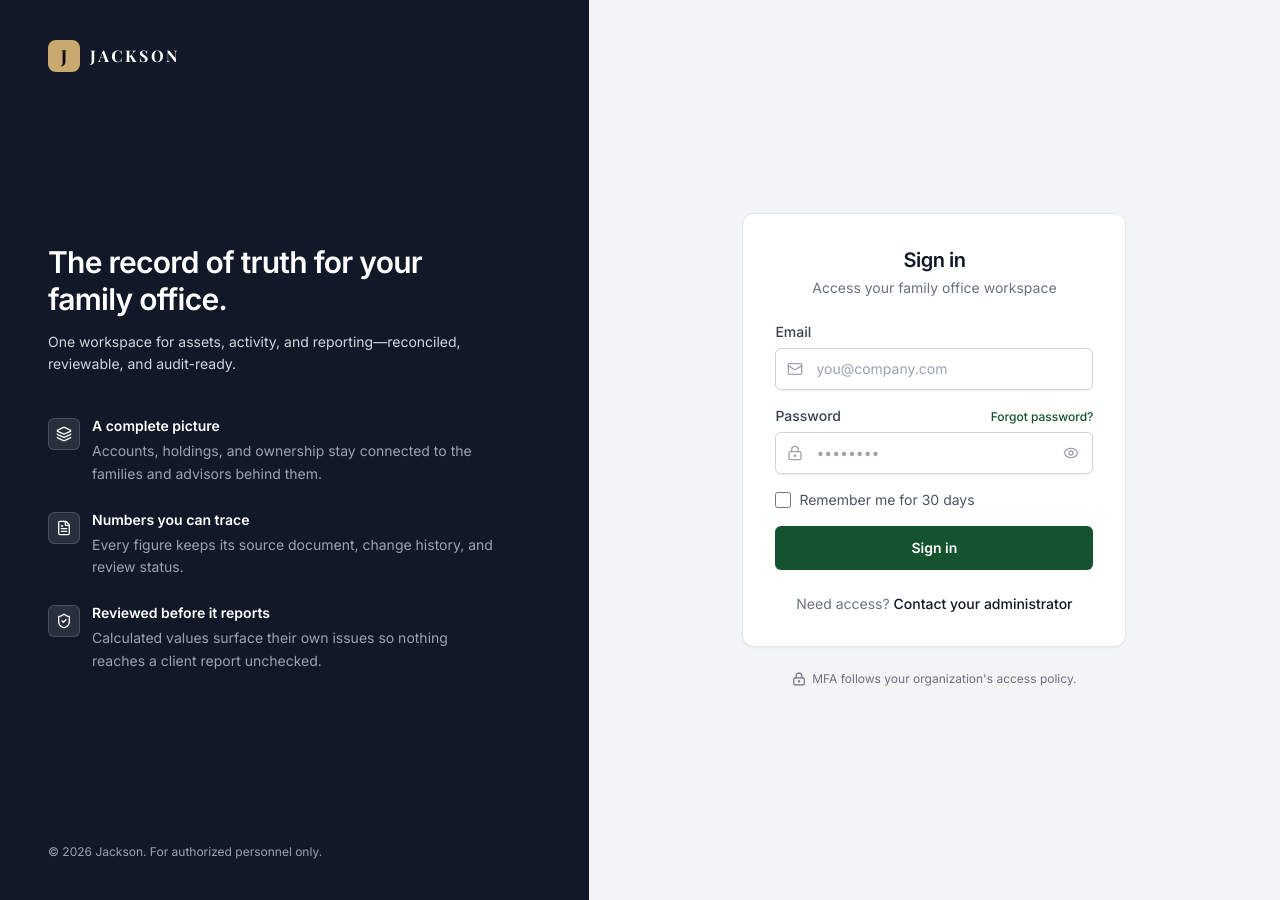
LoginPage current flow › authenticates a direct session and always opens Dashboard
Type "advisor@example.com" into the field labelled "Email" at (934, 369), box x1=775 y1=348 x2=1093 y2=390
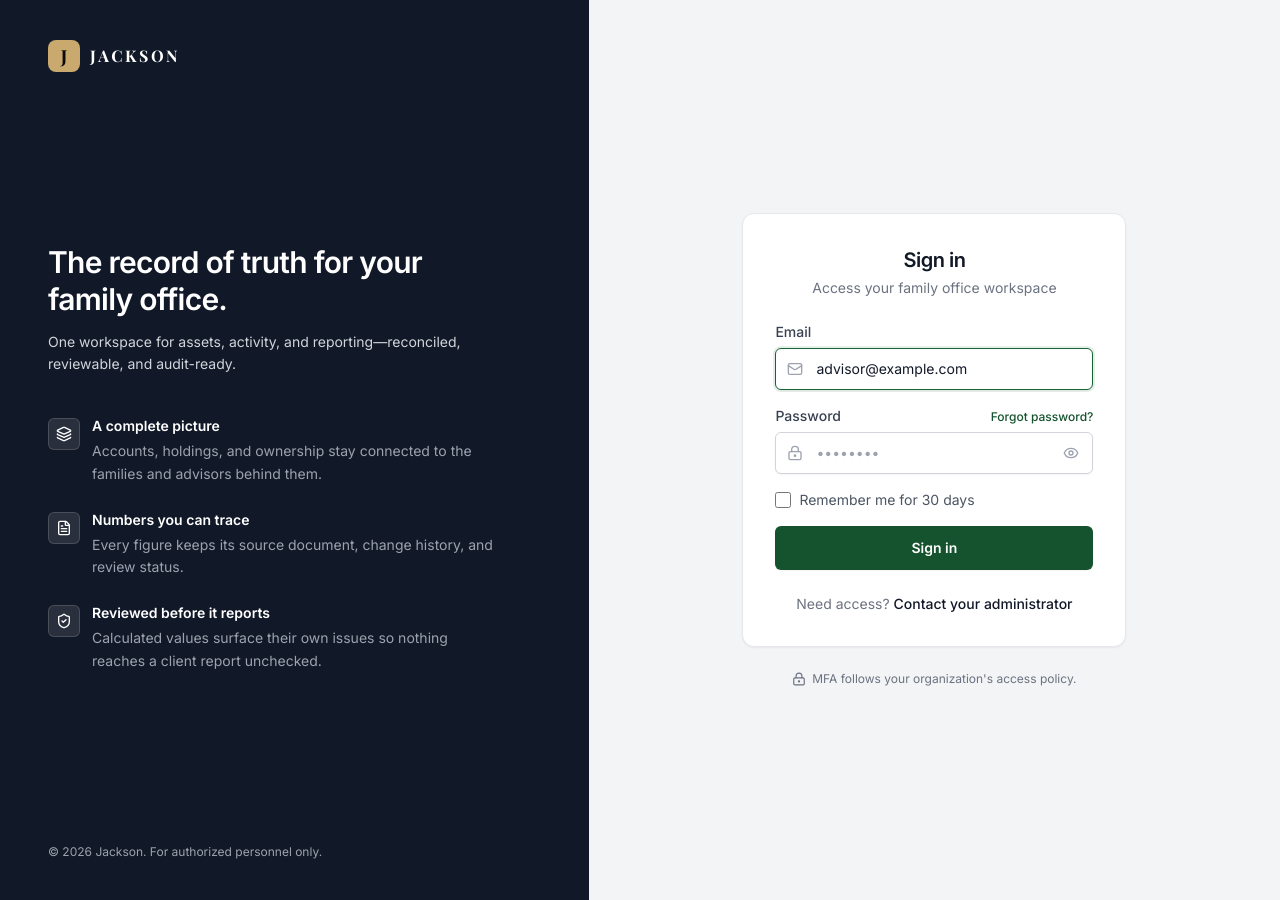
Type "Password123!" into the password field labelled "Password" at (934, 453), box x1=775 y1=432 x2=1093 y2=474
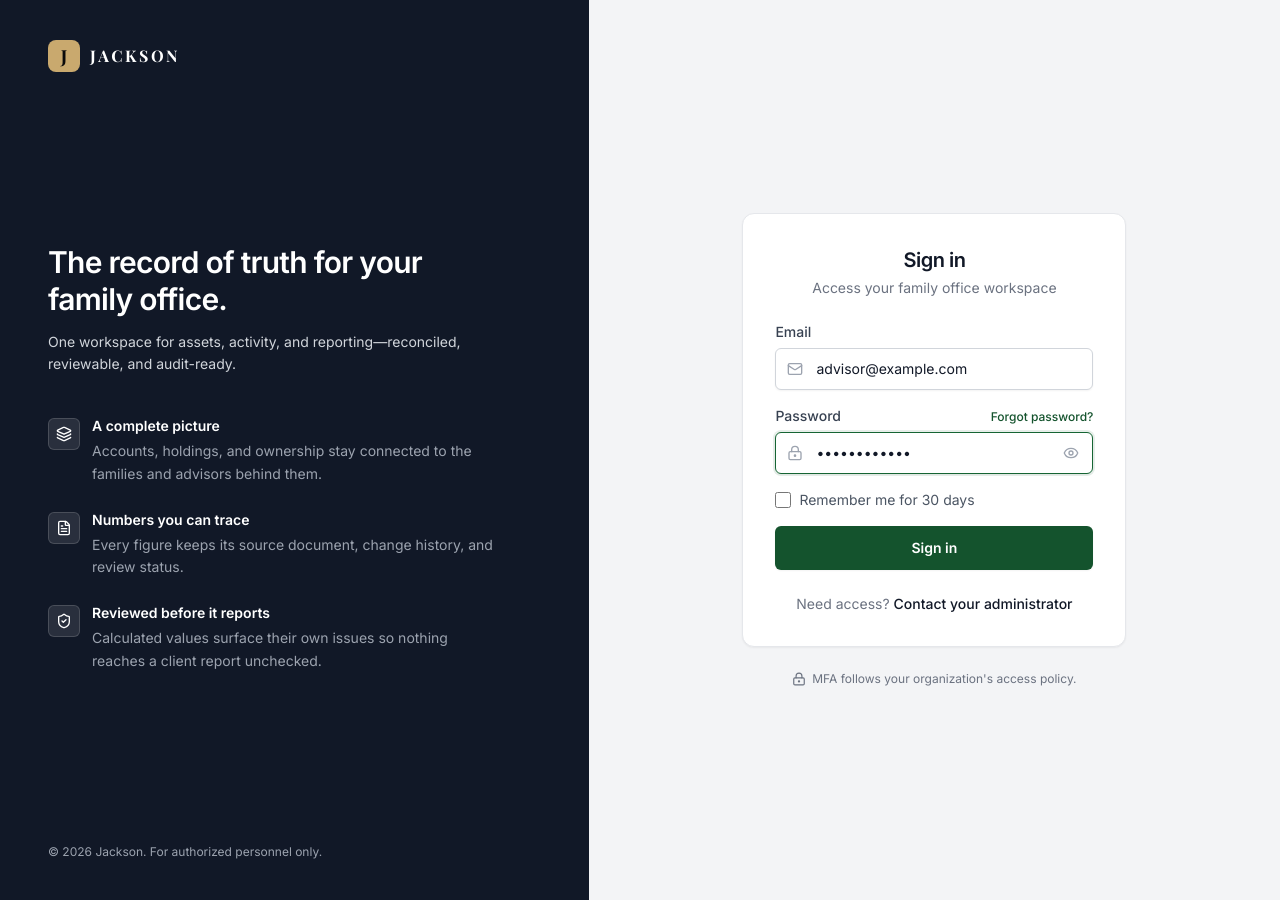
Click the button "Sign in" at (934, 548), box x1=775 y1=526 x2=1093 y2=570
(page scrolled)
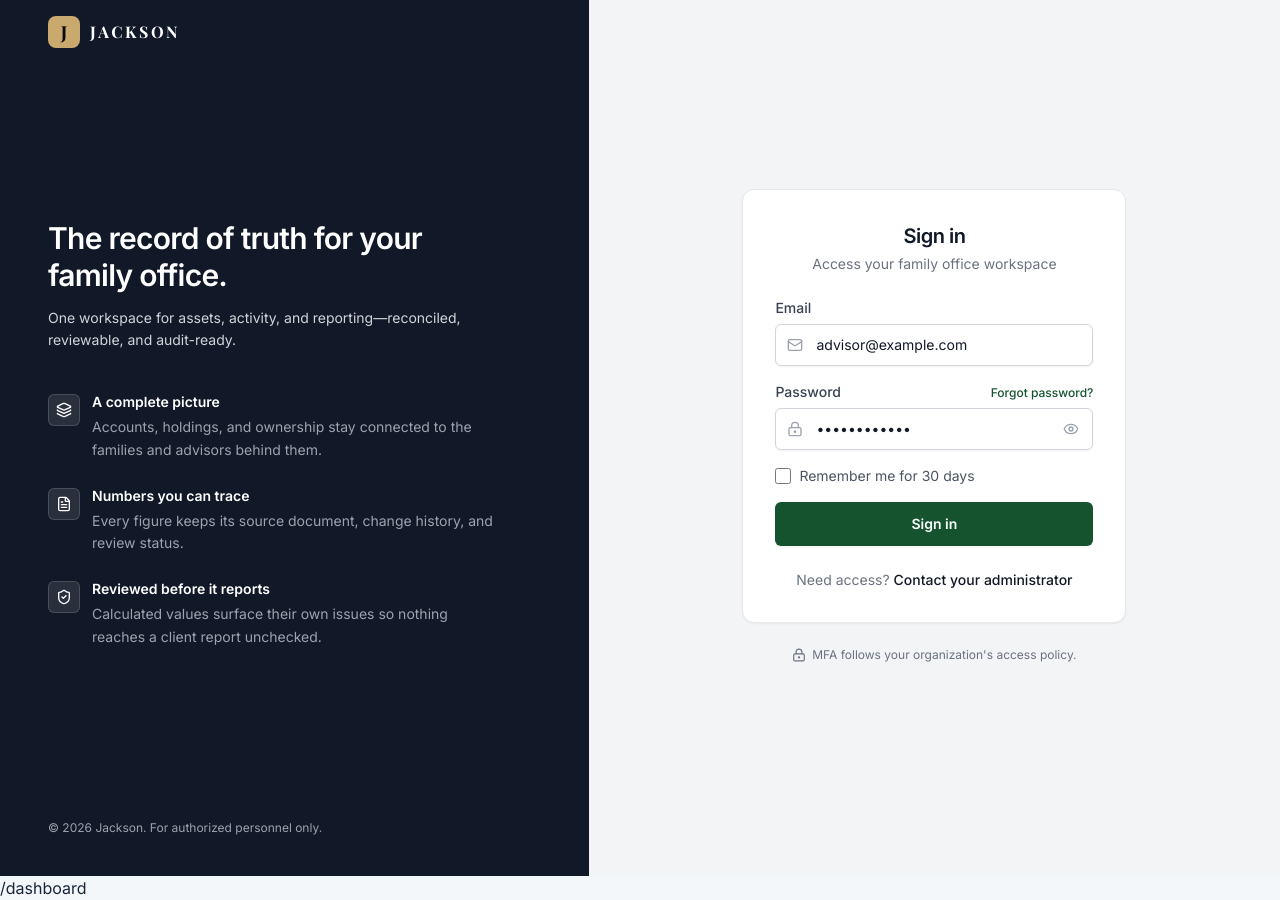
Result: the text with test id "current-location" reads "/dashboard" at x1=0 y1=878 x2=86 y2=898
